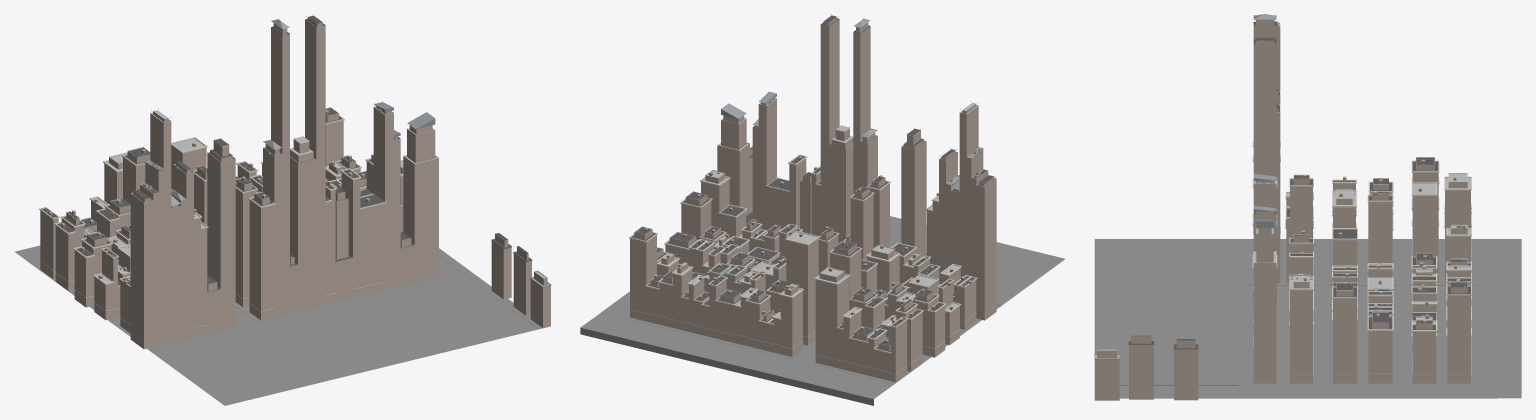
3 views of the same model, side by side, from view 1: azimuth 30°, elevation 25°; view 2: azimuth 150°, elevation 25°; view 3: azimuth 270°, elevation 25° (orthographic). The views are drawn at different scales.
Parts seen in each view (by area): view 1: t20_facade, t20_ground, t20_roof, t20_detail; view 2: t20_facade, t20_ground, t20_detail, t20_roof; view 3: t20_ground, t20_facade, t20_detail, t20_roof.
Boxes of the visible parts, <box> form: t20_facade: <box>40,17,550,348</box>; t20_ground: <box>14,245,542,405</box>; t20_roof: <box>42,14,549,291</box>; t20_detail: <box>39,19,551,327</box>; t20_facade: <box>630,17,996,382</box>; t20_ground: <box>580,205,1064,405</box>; t20_detail: <box>629,18,996,374</box>; t20_roof: <box>631,14,995,352</box>; t20_ground: <box>1094,239,1521,398</box>; t20_facade: <box>1094,19,1470,400</box>; t20_detail: <box>1094,22,1471,375</box>; t20_roof: <box>1094,14,1470,358</box>.
Bounding box in the file's own units: 390 × 335 × 430.
